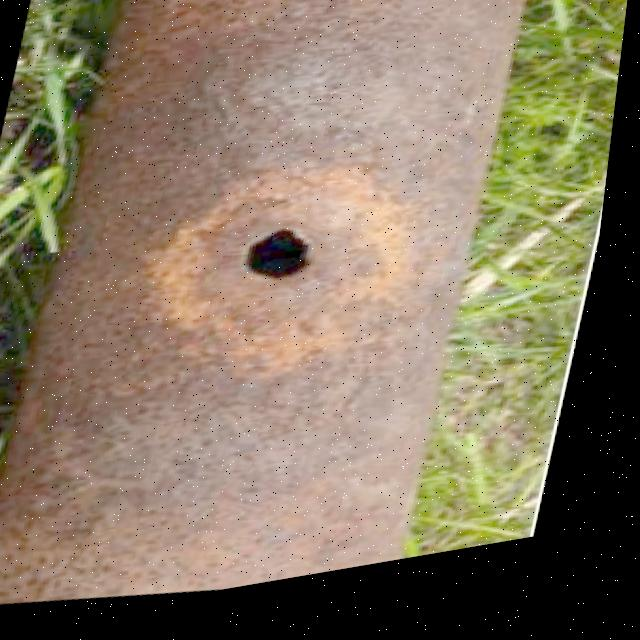hole: (236, 218, 336, 308)
